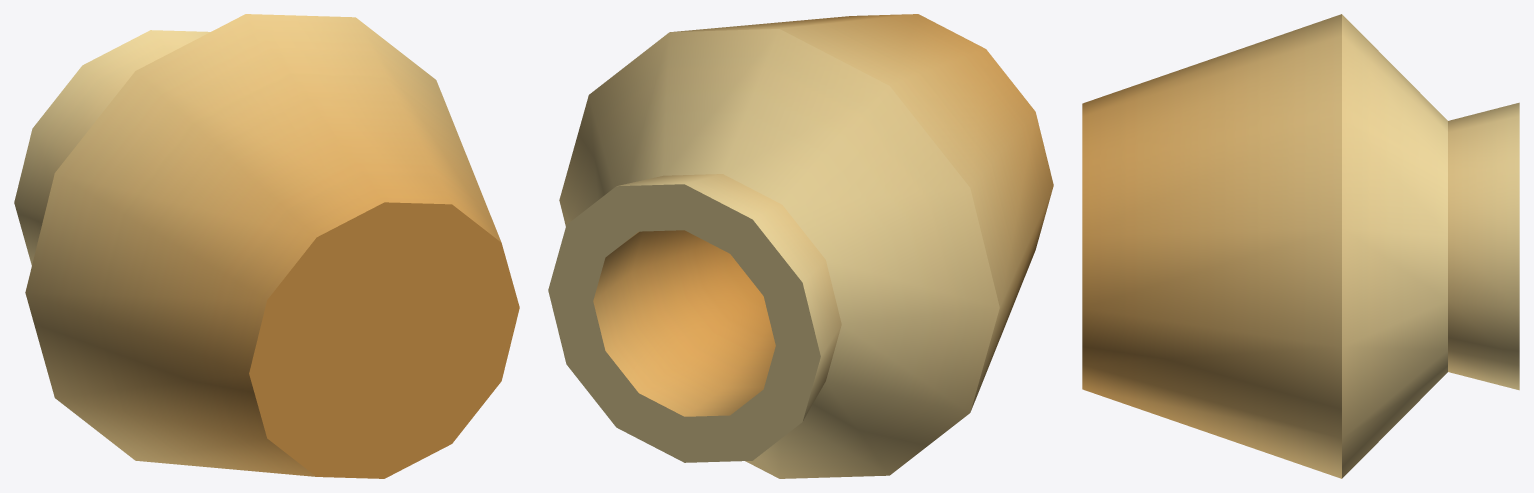
File: Urn 01.FBX
3 renders of one model, left to right at view 1: azimuth 30°, elevation 25°; view 2: azimuth 150°, elevation 25°; view 3: azimuth 270°, elevation 25°, orthographic. The views are drawn at different scales.
Parts seen in each view (by area): view 1: Urn 01; view 2: Urn 01; view 3: Urn 01.
Boxes of the visible parts, bbox=[...] form: Urn 01: bbox=[14, 14, 519, 478]; Urn 01: bbox=[548, 14, 1053, 478]; Urn 01: bbox=[1082, 14, 1519, 478].
Bounding box in the file's own units: 74.31 × 68.34 × 72.54.
Materials: 1 (1 with a texture image).
